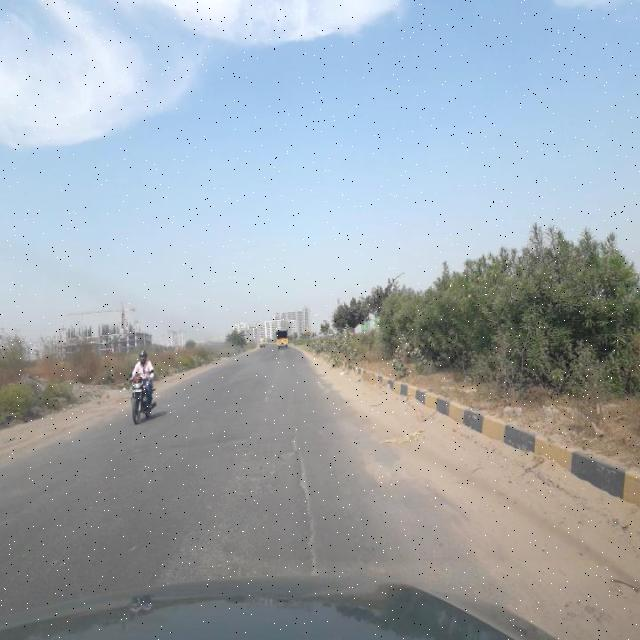D00: (289, 416, 324, 579)
